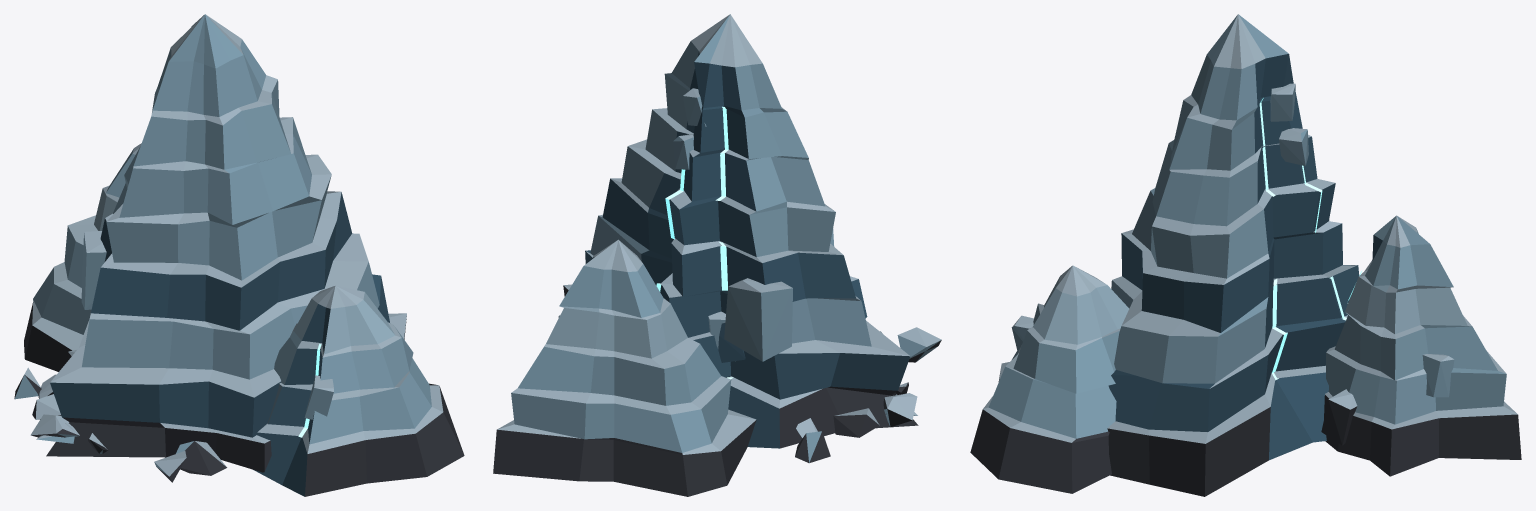
Rendered from cliff_a.glb.
3 renders of one model, left to right at view 1: azimuth 30°, elevation 25°; view 2: azimuth 150°, elevation 25°; view 3: azimuth 270°, elevation 25°, orthographic. The views are drawn at different scales.
Visible parts, largest first — view 1: cliff_a; view 2: cliff_a; view 3: cliff_a.
Boxes of the visible parts, box(x1,y1,x2,y2) form: cliff_a: box(14, 14, 464, 496); cliff_a: box(493, 14, 941, 496); cliff_a: box(970, 14, 1521, 496).
Bounding box in the file's own units: 15.92 × 16.3 × 20.46.
